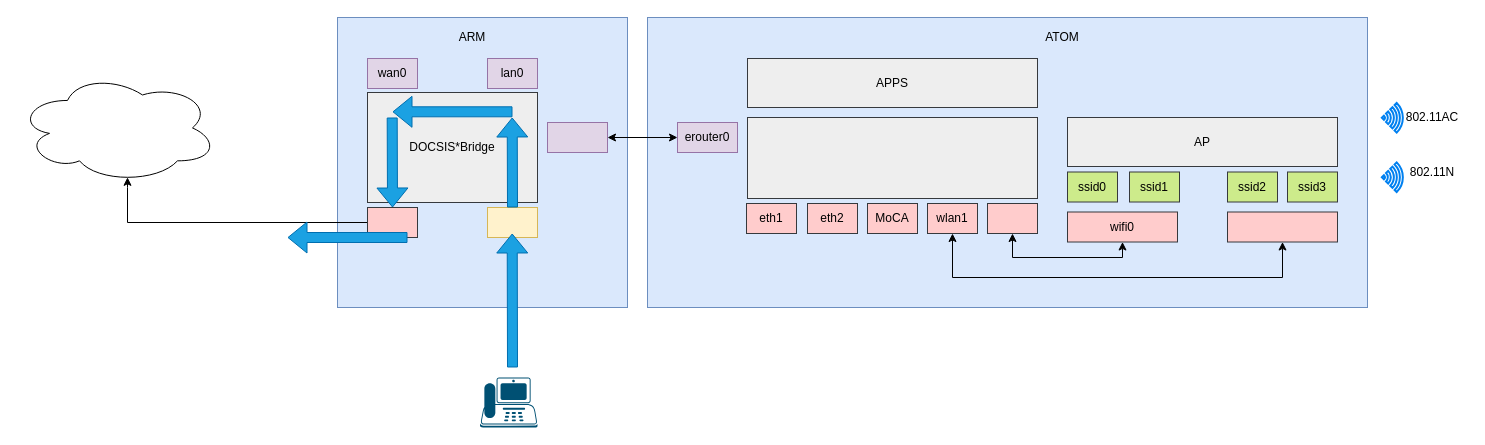
Image size: 1485x445. Some labels were removed from this diagram. Each missing label, with the centre of its shape:
cni0: point (392, 222)
eSAFED: point (577, 137)
mta0: point (512, 222)
Router: point (892, 157)
wifi1: point (1282, 226)
wlan2: point (1012, 218)
